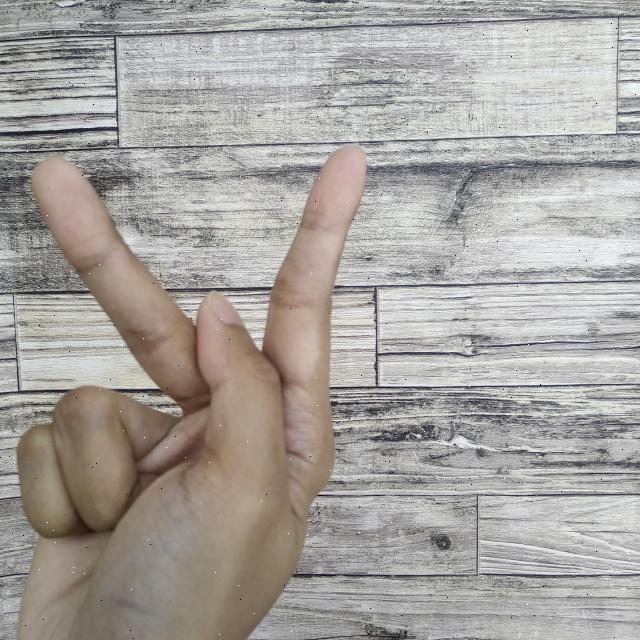K: (11, 136, 370, 640)
